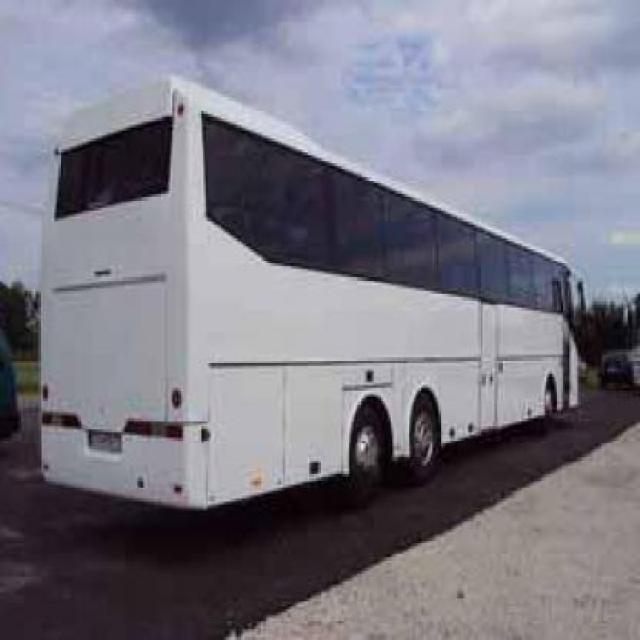bus: (36, 78, 582, 512)
